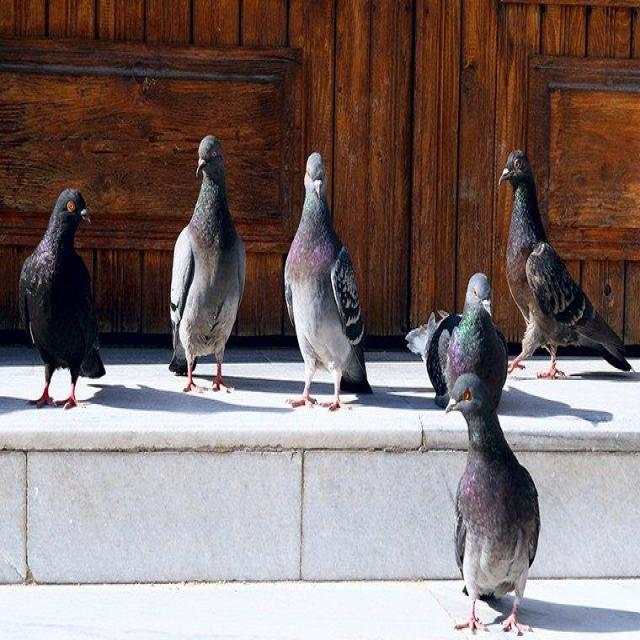bird: (498, 147, 626, 389), (442, 372, 547, 629), (161, 121, 252, 411), (278, 144, 364, 420), (12, 173, 104, 403), (419, 266, 509, 386)
